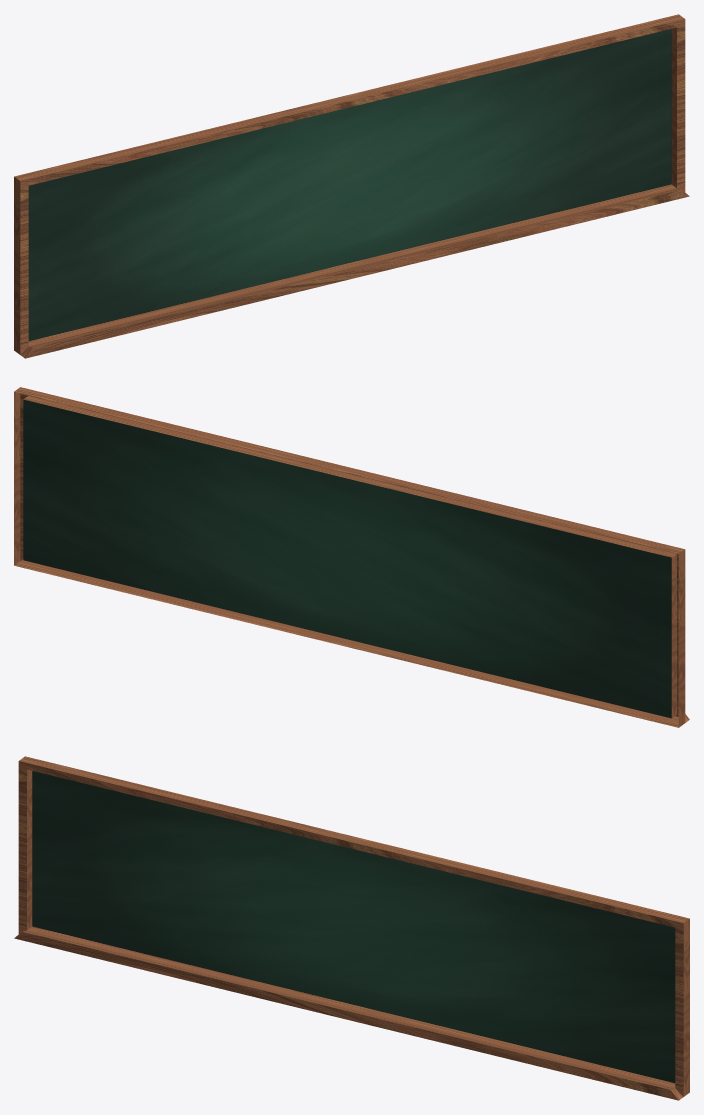
Rendered from blackboard.glb.
3 views of the same model, one above another, from view 1: azimuth 30°, elevation 25°; view 2: azimuth 150°, elevation 25°; view 3: azimuth 330°, elevation 25° (orthographic).
Visible parts, largest first — view 1: Lousa; view 2: Lousa; view 3: Lousa.
Boxes of the visible parts, x1=… form: Lousa: x1=14, y1=14, x2=689, y2=358; Lousa: x1=14, y1=387, x2=689, y2=727; Lousa: x1=14, y1=756, x2=689, y2=1100.
Bounding box in the file's own units: 600 × 150 × 17.48.
2 materials, 2 textured.
